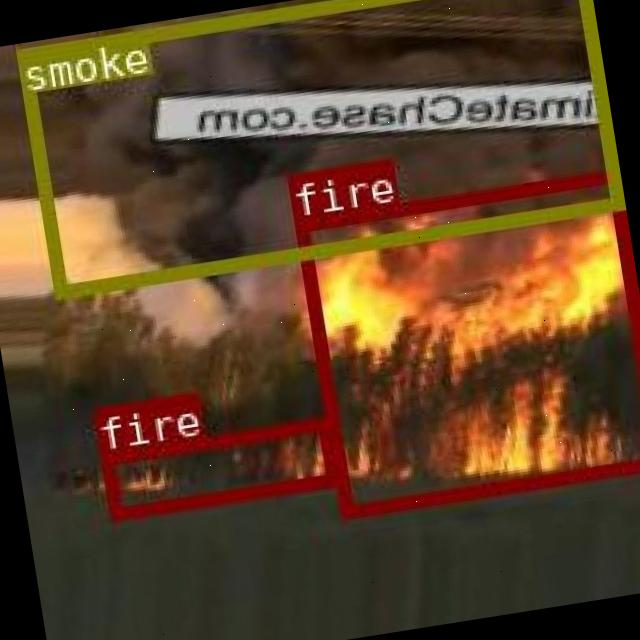fire: (291, 166, 640, 515), (99, 415, 338, 518)
smoke: (14, 0, 620, 295)
